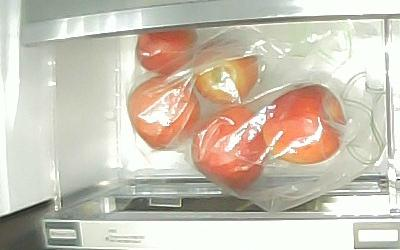apple_vinyl: (261, 84, 346, 164), (191, 105, 267, 192), (127, 74, 201, 150), (193, 40, 259, 105), (136, 27, 197, 74)
